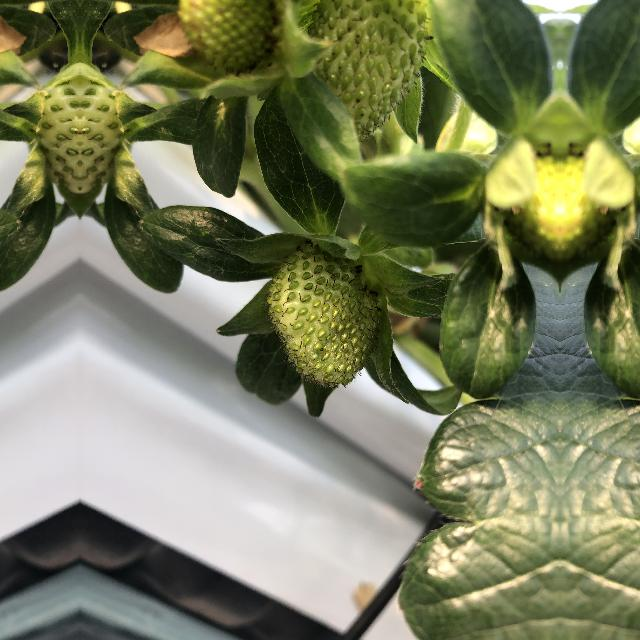Health_25: (266, 230, 394, 392), (302, 0, 426, 132)
